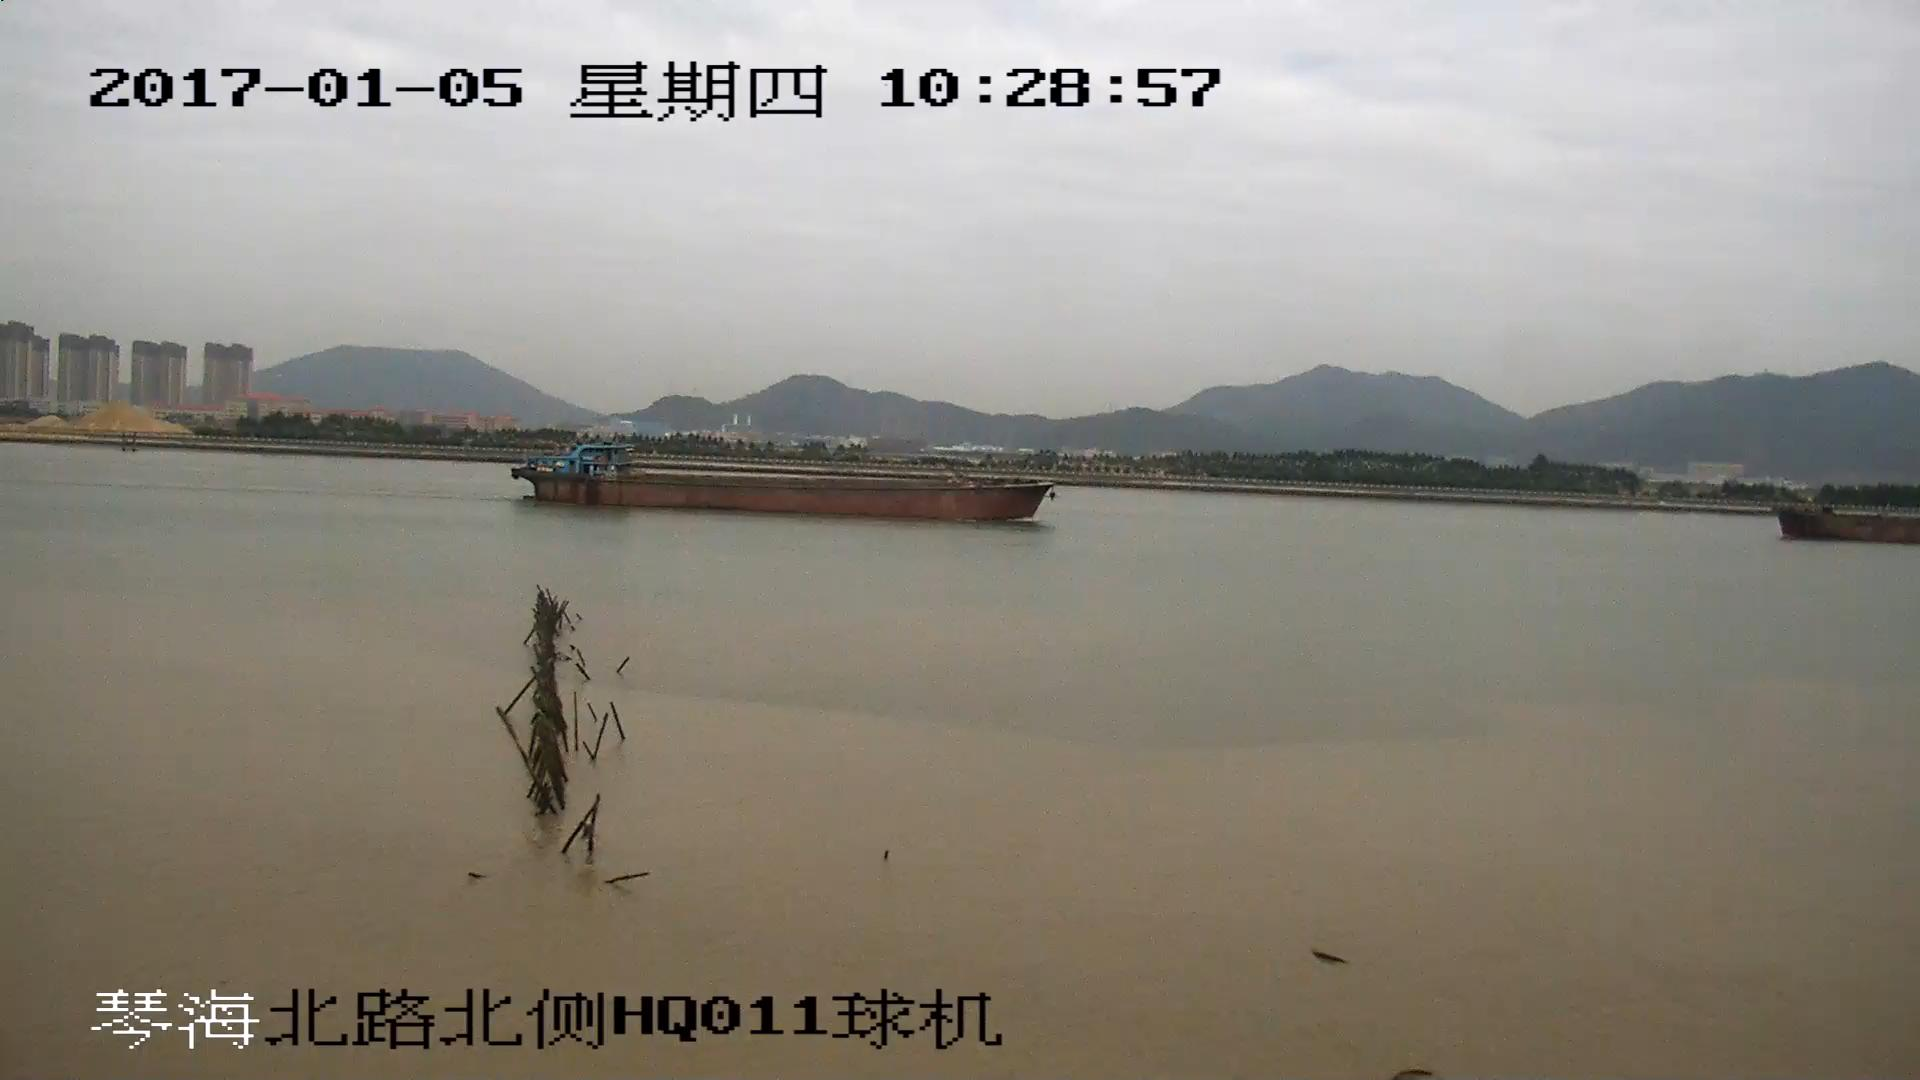bulk cargo carrier: (513, 441, 1057, 523)
